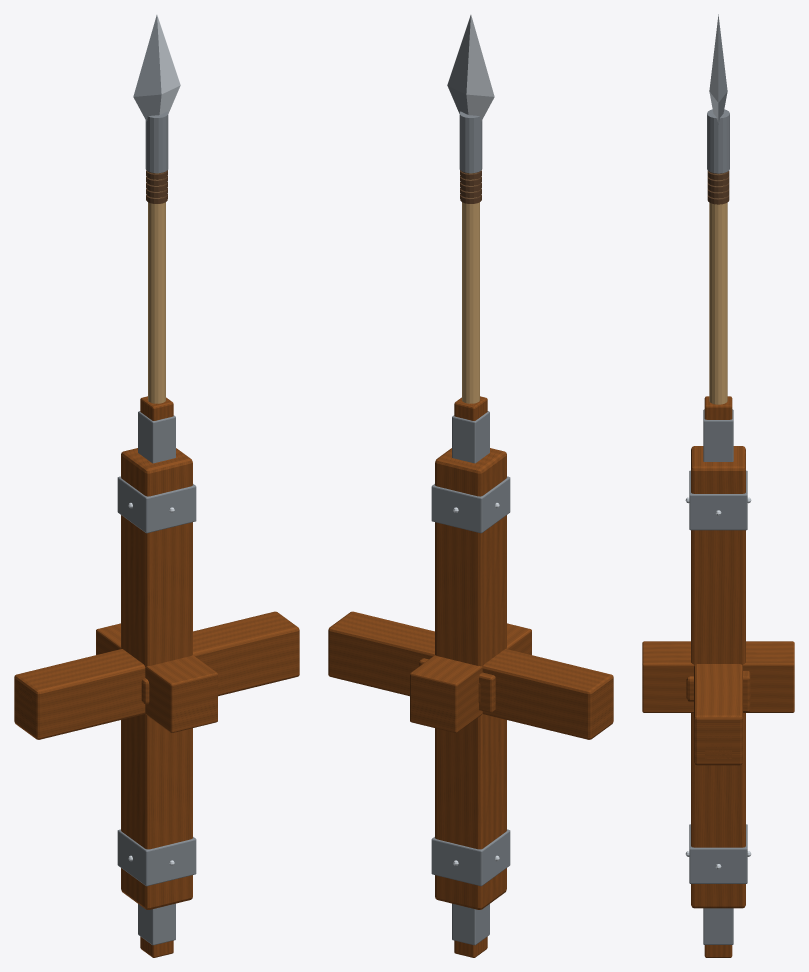
File: spear-rack.glb
3 renders of one model, left to right at view 1: azimuth 30°, elevation 25°; view 2: azimuth 150°, elevation 25°; view 3: azimuth 270°, elevation 25°, orthographic.
Parts seen in each view (by area): view 1: Rack upright, Rack base, Rack spear, Rack crossbeam, Rack brace; view 2: Rack upright, Rack base, Rack spear, Rack crossbeam, Rack brace, Rack guide; view 3: Rack upright, Rack spear, Rack crossbeam, Rack base, Rack brace, Rack rail.
Part boxes in pixels (bbox=[...]): Rack upright: bbox=[117, 448, 196, 909]; Rack base: bbox=[14, 611, 299, 739]; Rack spear: bbox=[133, 15, 180, 403]; Rack crossbeam: bbox=[96, 623, 217, 732]; Rack brace: bbox=[138, 396, 175, 957]; Rack upright: bbox=[431, 448, 510, 909]; Rack base: bbox=[328, 611, 613, 739]; Rack spear: bbox=[447, 15, 494, 403]; Rack crossbeam: bbox=[410, 623, 531, 732]; Rack brace: bbox=[452, 396, 489, 957]; Rack guide: bbox=[419, 658, 495, 712]; Rack upright: bbox=[685, 446, 751, 908]; Rack spear: bbox=[707, 14, 729, 404]; Rack crossbeam: bbox=[642, 641, 794, 712]; Rack base: bbox=[694, 664, 742, 765]; Rack brace: bbox=[703, 396, 733, 957]; Rack rail: bbox=[705, 724, 731, 759].
Bounding box in the file's own units: 0.5 × 1.7 × 0.25.
5 materials, 1 textured.
